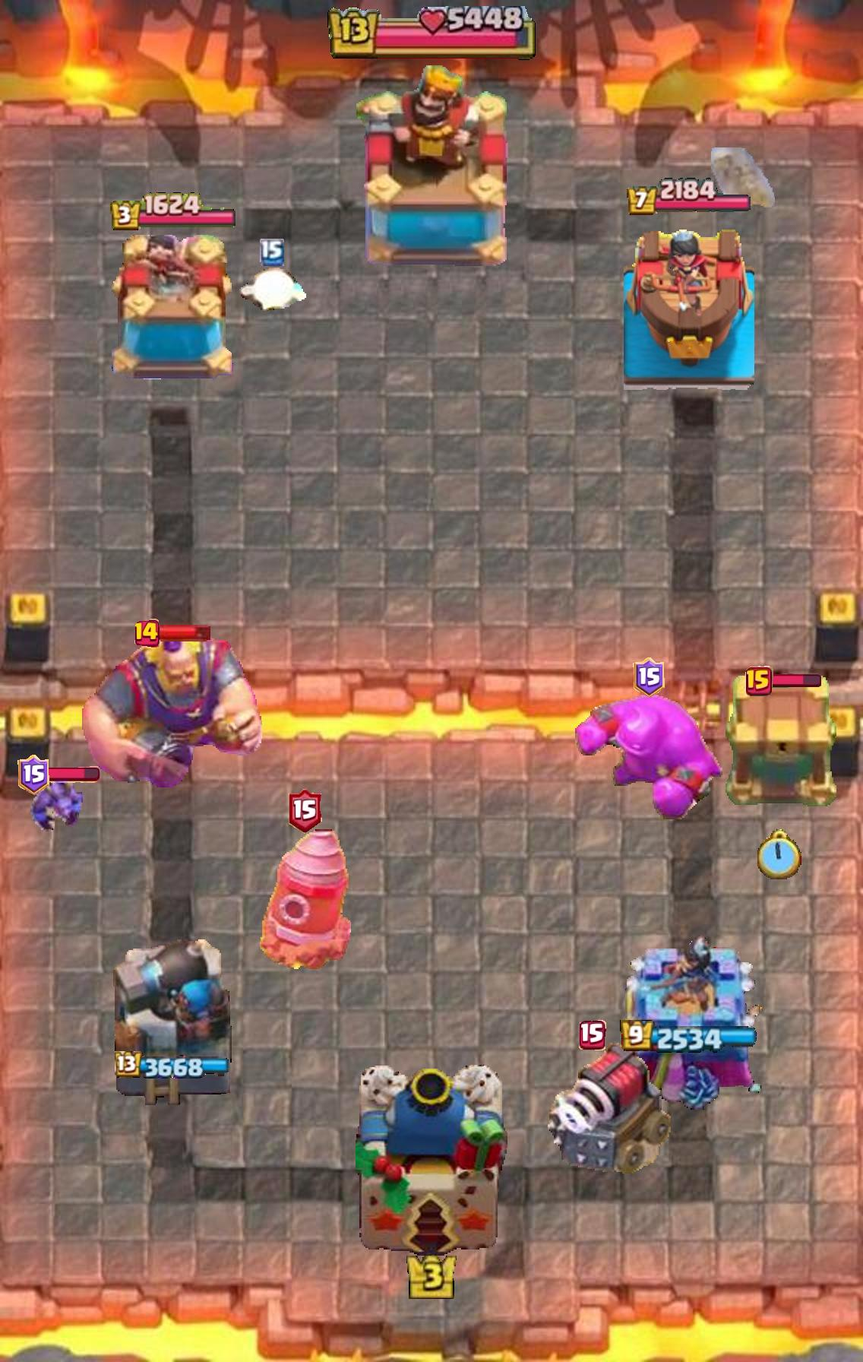ice-spirit: (236, 265, 308, 311)
